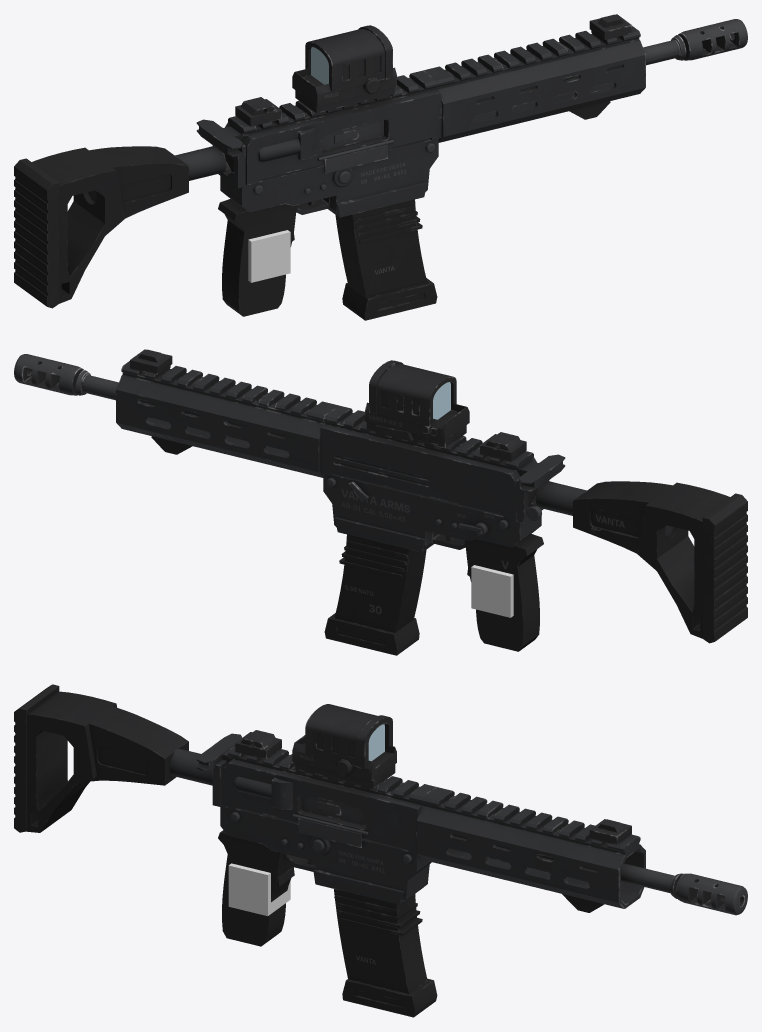
The model's file is Phantom_Realiste.fbx.
The picture shows the model from 3 angles, top to bottom: view 1: azimuth 30°, elevation 25°; view 2: azimuth 150°, elevation 25°; view 3: azimuth 330°, elevation 25°; orthographic projection.
Visible parts, largest first — view 1: Body_Garde, Body_Crosse, Body_Carcasse, Magazine_Chargeur, Body_Bas, Body_Optique, Body_Talon, Body_Poignee, Body_Canon, Body_Acier, Root, Body_Tube (+2 smaller); view 2: Body_Garde, Body_Carcasse, Body_Crosse, Body_Bas, Magazine_Chargeur, Body_Optique, Body_Talon, Body_Poignee, Body_Canon, Root, Body_Tube, ChargingHandle_Levier (+2 smaller); view 3: Body_Garde, Body_Crosse, Body_Carcasse, Magazine_Chargeur, Body_Bas, Body_Optique, Body_Poignee, Body_Canon, Body_Acier, Root, Body_Talon, Body_Tube (+1 smaller).
Boxes of the visible parts, x1,y1,x2,y2 form: Body_Garde: (423,26,645,142); Body_Crosse: (32,146,188,303); Body_Carcasse: (224,70,441,185); Magazine_Chargeur: (335,199,437,320); Body_Bas: (220,138,438,217); Body_Optique: (235,14,631,126); Body_Talon: (14,158,59,308); Body_Poignee: (218,101,610,316); Body_Canon: (476,19,747,101); Body_Acier: (197,120,435,194); Root: (248,230,290,282); Body_Tube: (88,143,245,202); Body_Garde: (116,361,338,477); Body_Carcasse: (320,405,537,520); Body_Crosse: (573,481,729,638); Body_Bas: (323,473,541,552); Magazine_Chargeur: (324,534,426,655); Body_Optique: (130,349,526,461); Body_Talon: (702,493,747,643); Body_Poignee: (151,436,543,651); Body_Canon: (14,354,285,436); Root: (471,565,513,617); Body_Tube: (516,478,673,537); ChargingHandle_Levier: (517,454,565,492); Body_Garde: (416,787,645,908); Body_Crosse: (26,691,188,832); Body_Carcasse: (223,745,435,853); Magazine_Chargeur: (334,889,437,1017); Body_Bas: (220,805,431,904); Body_Optique: (235,704,631,844); Body_Poignee: (218,830,604,946); Body_Canon: (452,833,747,915); Body_Acier: (230,794,412,863); Root: (228,863,290,916); Body_Talon: (14,684,59,832); Body_Tube: (169,748,227,806).
Size of the model in its own units: 3.62 by 1.35 by 0.3293.
Materials: 15 (13 with a texture image).
